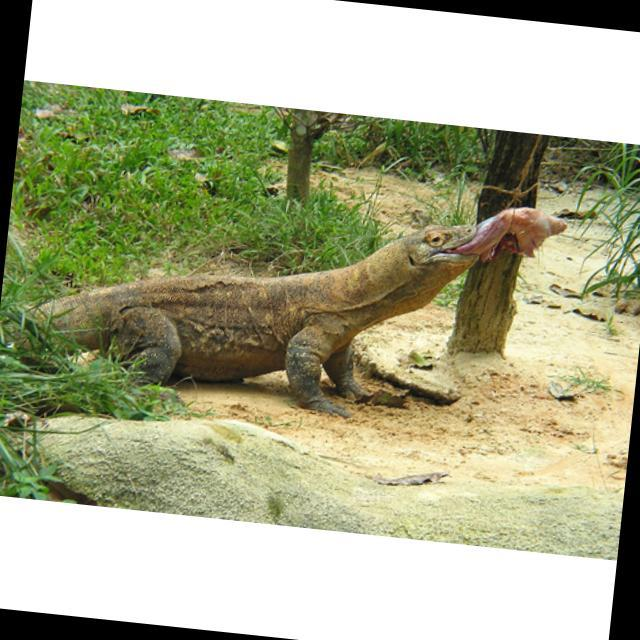KomodoDragon: (0, 166, 494, 442)
